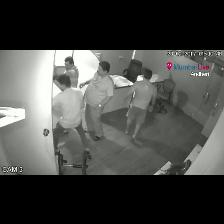person: (53, 74, 89, 151), (80, 61, 114, 140), (125, 69, 157, 138), (64, 130, 68, 134)
